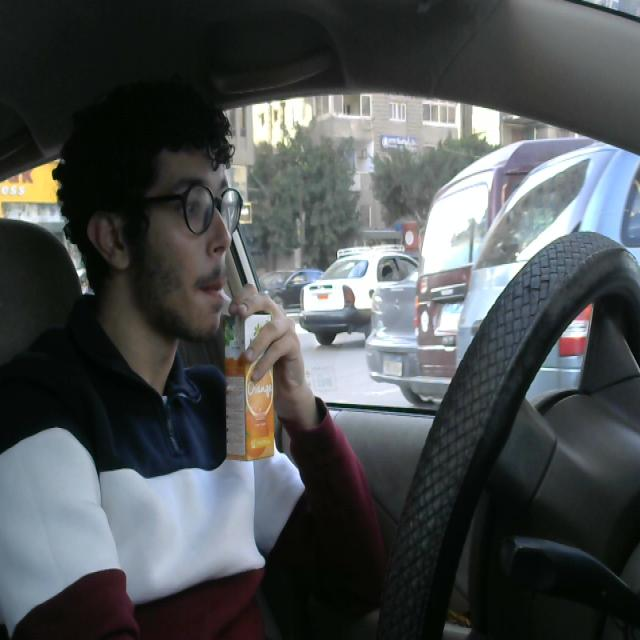drinking: (208, 274, 278, 464)
